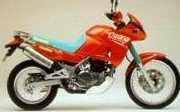motorcycle: (2, 16, 179, 108)
